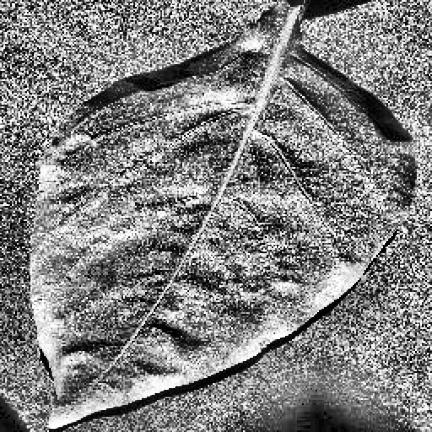leaf: (30, 0, 417, 427)
